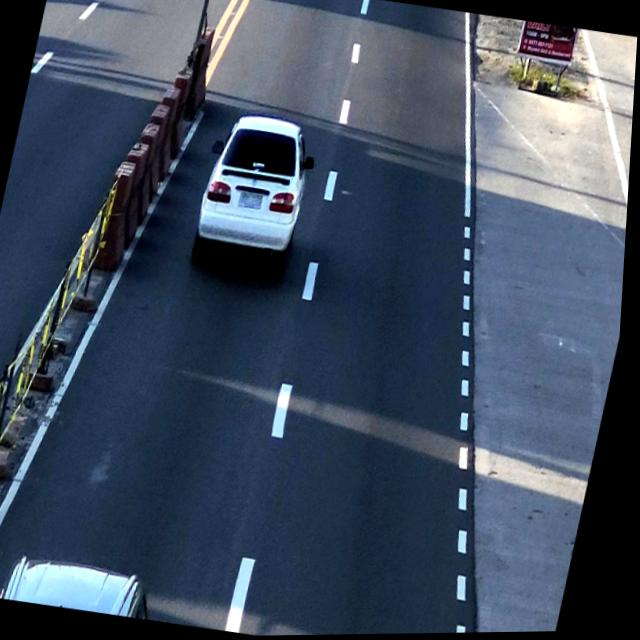Car: (183, 105, 325, 276), (8, 544, 169, 623)
License-Plate: (239, 188, 269, 213)
